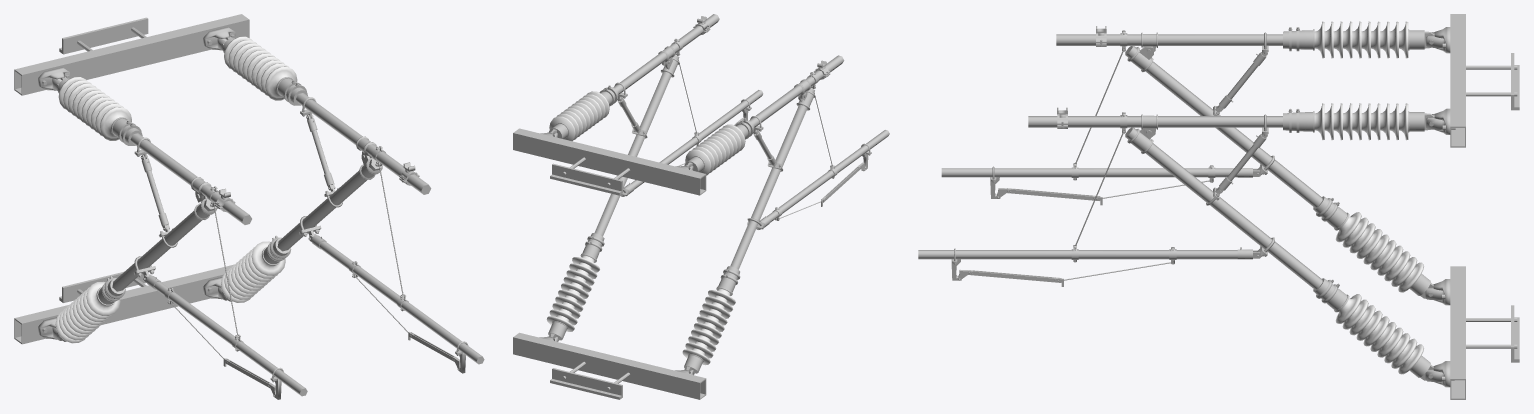
The model's file is single_short_double_2.obj.
3 views of the same model, side by side, from view 1: azimuth 30°, elevation 25°; view 2: azimuth 150°, elevation 25°; view 3: azimuth 270°, elevation 25° (orthographic). The views are drawn at different scales.
Visible parts, largest first — view 1: 立方体.582, 立方体.577, 贝塞尔曲线.152, 贝塞尔曲线.137, 贝塞尔曲线.133, 贝塞尔曲线.134, 贝塞尔曲线.136, 立方体.580, 贝塞尔曲线.135, 立方体.579, 柱体.1438, 柱体.1466 (+2 smaller); view 2: 立方体.577, 立方体.582, 贝塞尔曲线.136, 贝塞尔曲线.134, 立方体.580, 立方体.579, 贝塞尔曲线.137, 贝塞尔曲线.133, 贝塞尔曲线.152, 贝塞尔曲线.135; view 3: 贝塞尔曲线.152, 贝塞尔曲线.134, 贝塞尔曲线.136, 贝塞尔曲线.133, 贝塞尔曲线.137, 贝塞尔曲线.135, 立方体.577, 立方体.582, 柱体.1465, 柱体.1270, 柱体.1304, 柱体.1431 (+2 smaller).
Part boxes in pixels (x1,y1,x2,y2): 立方体.582: [14, 14, 249, 95]; 立方体.577: [14, 264, 234, 344]; 贝塞尔曲线.152: [319, 241, 484, 364]; 贝塞尔曲线.137: [154, 281, 307, 396]; 贝塞尔曲线.133: [296, 93, 431, 194]; 贝塞尔曲线.134: [277, 158, 381, 251]; 贝塞尔曲线.136: [112, 199, 216, 291]; 立方体.580: [59, 17, 148, 54]; 贝塞尔曲线.135: [130, 133, 251, 224]; 立方体.579: [59, 272, 146, 302]; 柱体.1438: [251, 241, 285, 275]; 柱体.1466: [265, 66, 297, 100]; 立方体.577: [513, 332, 706, 399]; 立方体.582: [513, 128, 706, 195]; 贝塞尔曲线.136: [730, 88, 814, 269]; 贝塞尔曲线.134: [594, 54, 679, 236]; 立方体.580: [550, 163, 622, 195]; 立方体.579: [550, 368, 622, 399]; 贝塞尔曲线.137: [766, 130, 889, 222]; 贝塞尔曲线.133: [613, 14, 719, 94]; 贝塞尔曲线.152: [630, 90, 763, 189]; 贝塞尔曲线.135: [749, 55, 844, 127]; 贝塞尔曲线.152: [918, 250, 1237, 259]; 贝塞尔曲线.134: [1125, 127, 1322, 289]; 贝塞尔曲线.136: [1125, 46, 1322, 207]; 贝塞尔曲线.133: [1028, 116, 1282, 127]; 贝塞尔曲线.137: [941, 168, 1237, 177]; 贝塞尔曲线.135: [1056, 34, 1282, 45]; 立方体.577: [1450, 266, 1465, 399]; 立方体.582: [1450, 14, 1465, 147]; 柱体.1465: [1283, 111, 1314, 132]; 柱体.1270: [1283, 29, 1314, 50]; 柱体.1304: [1313, 196, 1349, 230]; 柱体.1431: [1313, 278, 1349, 312].
Size of the model in its own units: 1.72 by 1.99 by 3.88.
